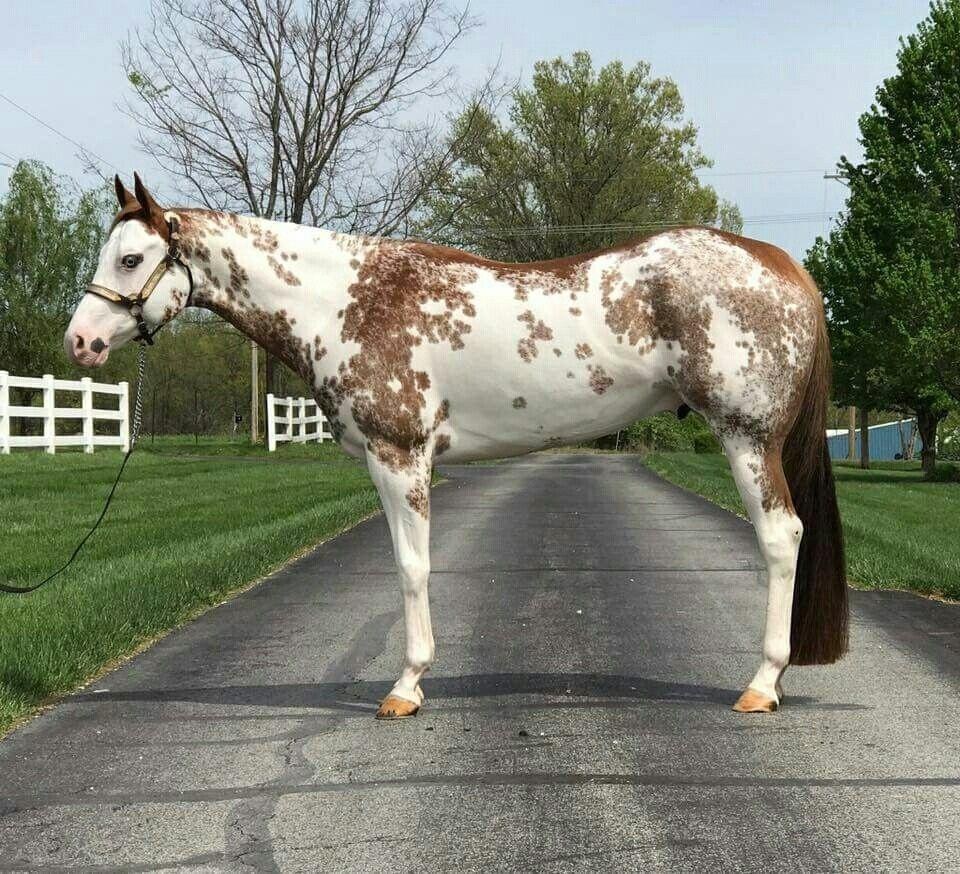horse: (62, 169, 851, 720)
